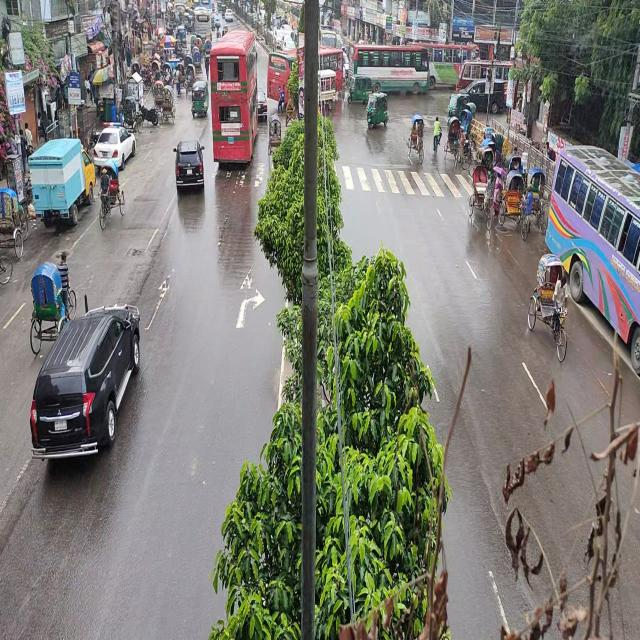black: (30, 299, 142, 465), (461, 80, 507, 118), (176, 139, 206, 197)
white: (94, 127, 138, 175)
